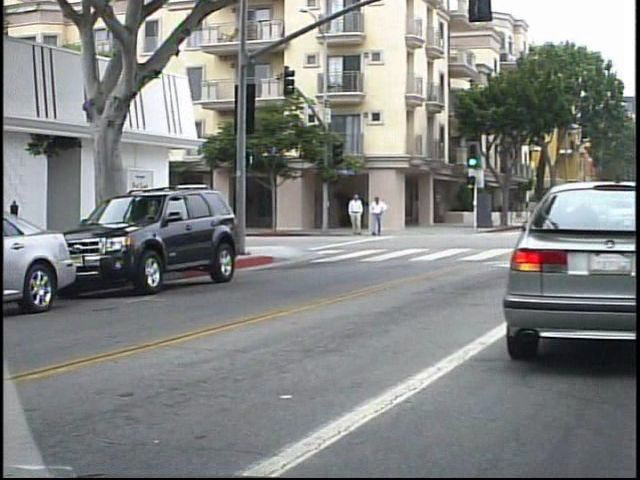person: (344, 192, 364, 243), (365, 193, 385, 238)
